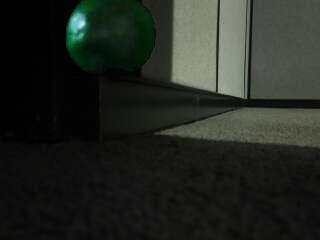Lime: (67, 0, 159, 76)
